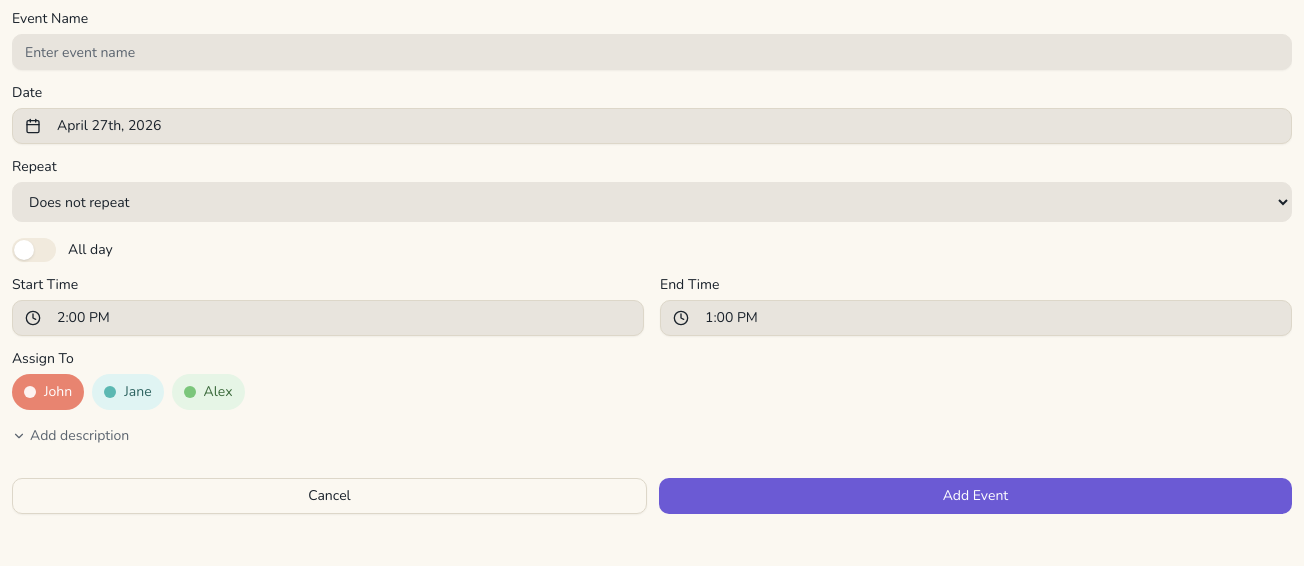
Scenario: EventForm › Form Validation › shows error when end time is before start time
In the field labelled "Event Name": (652, 52) [12, 34, 1292, 70], type "Test Event"
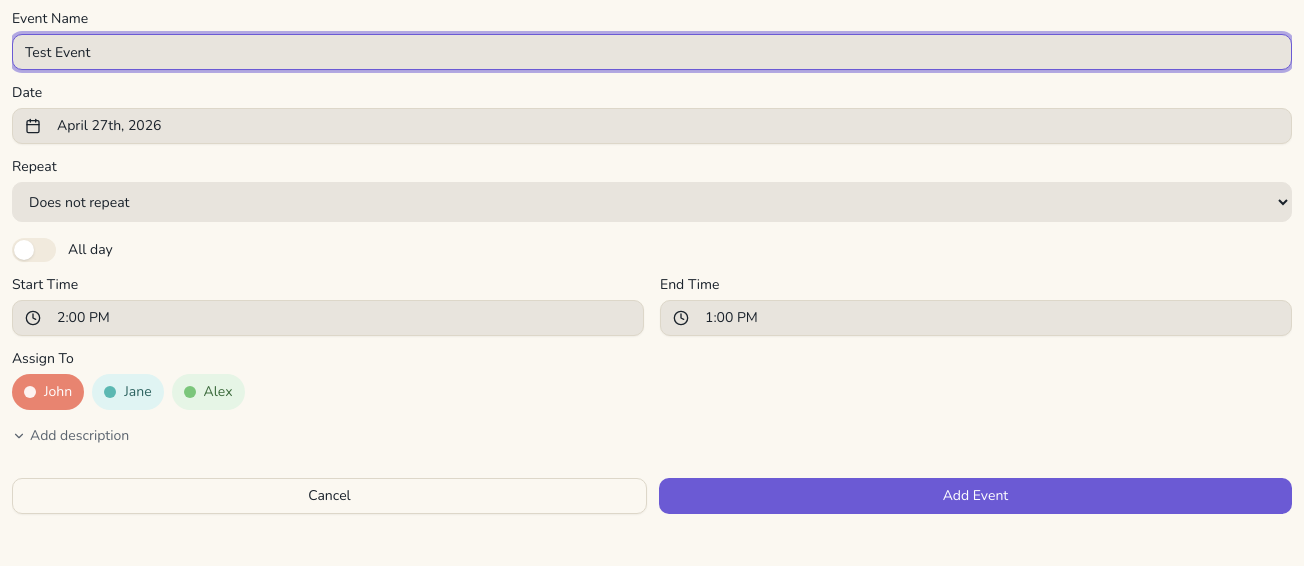
Click the button "Add Event": click(976, 496) [659, 478, 1292, 514]
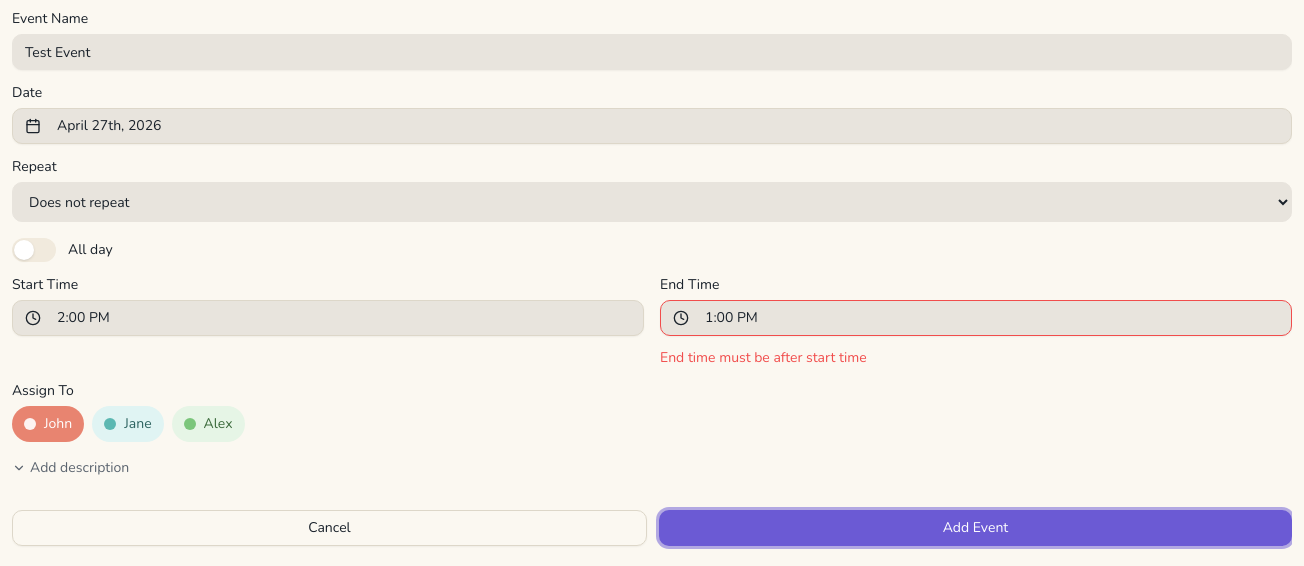
Result: the text "End time must be after start time" is shown at [660, 348, 867, 367]
